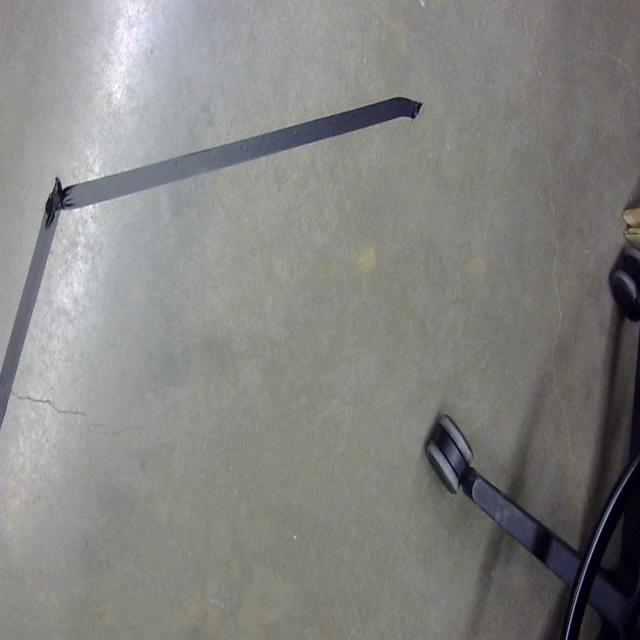tape: (0, 58, 454, 452)
